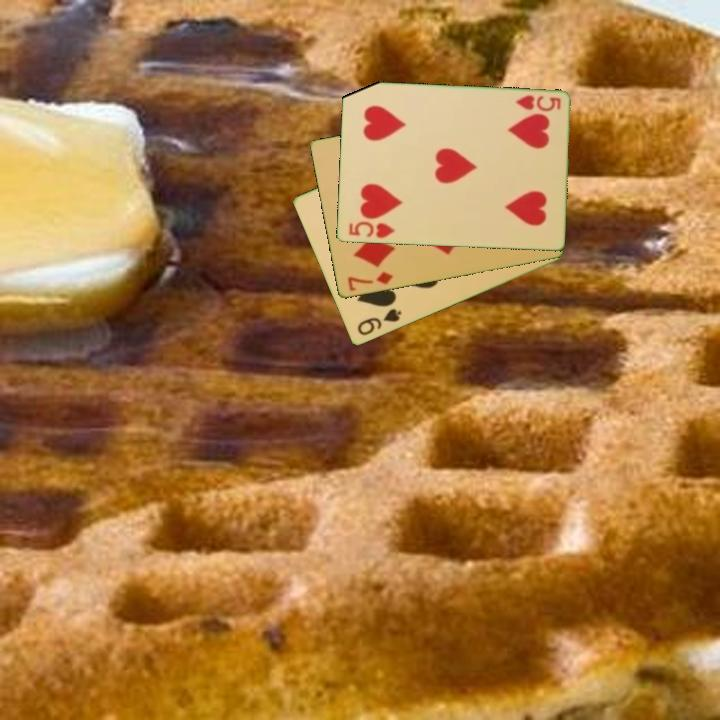5h: (345, 218, 397, 241), (512, 92, 563, 115)
7d: (344, 268, 396, 294)
9s: (353, 305, 404, 339)
